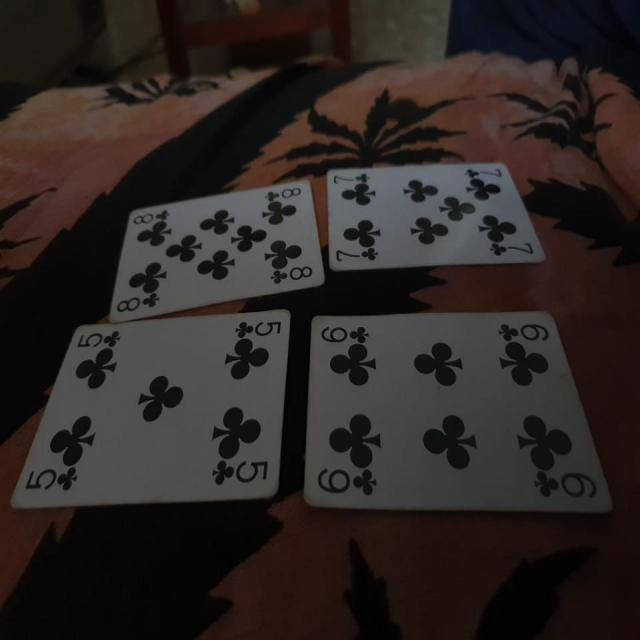5 Trefoils: (9, 304, 292, 512)
6 Trefoils: (299, 308, 615, 514)
7 Trefoils: (326, 158, 547, 273)
8 Trefoils: (108, 179, 326, 326)
